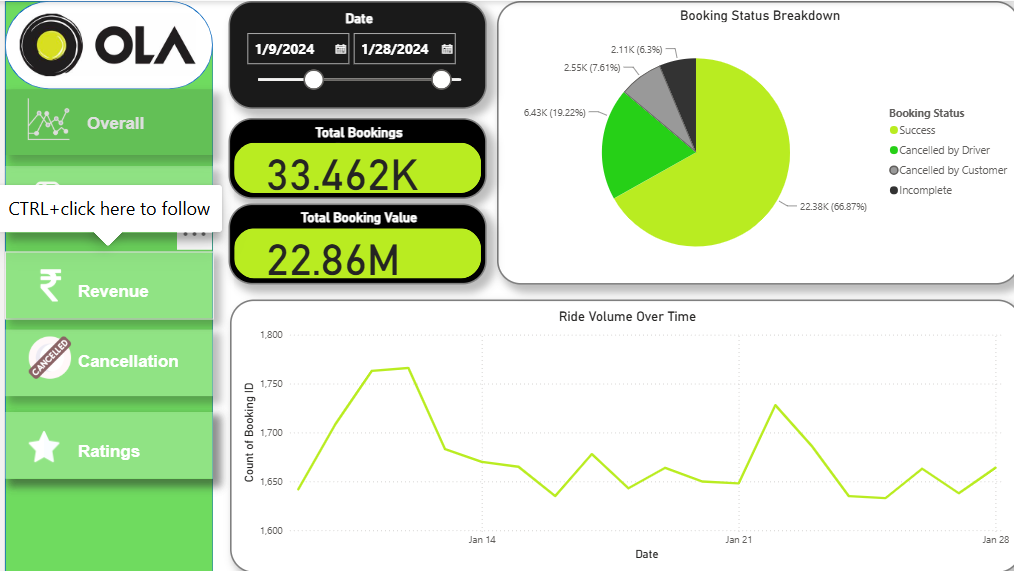

Layout of this report page (visuals, bound fields, positions):
{"tool":"powerbi","page":{"name":"Overall","canvas":[1280,720],"ordinal":0},"visuals":[{"type":"shape","box":[0,0,262.3,720.6],"z":0},{"type":"shape","box":[0,0,261.9,111.1],"z":1000},{"type":"image","box":[12.7,0,231.7,111.1],"z":2000},{"type":"image","box":[11.3,116.6,87.4,63.1],"z":3000},{"type":"textbox","box":[98.8,136,93.9,42.1],"z":4000},{"type":"textbox","box":[102,229.9,160.3,37.2],"z":5000},{"type":"textbox","box":[87.3,347.6,174.6,36.5],"z":6000},{"type":"textbox","box":[87.3,436.5,146,39.7],"z":7000},{"type":"textbox","box":[87.3,549.2,174.6,41.3],"z":8000},{"type":"image","box":[14.6,207.3,87.4,84.2],"z":9000},{"type":"image","box":[0,333.3,115.9,50.8],"z":10000},{"type":"image","box":[23.8,412.7,63.5,74.6],"z":11000},{"type":"image","box":[23.8,530.2,49.2,60.3],"z":12000},{"type":"actionButton","box":[0,315.9,261.9,84.1],"z":13000},{"type":"actionButton","box":[0,518.2,262.3,84.2],"z":14000},{"type":"lineChart","title":"Ride Volume Over Time","fields":{"Y":["CountNonNull(indore ola dataset(1).Booking ID)"],"Category":["indore ola dataset(1).Date"]},"box":[283.4,375.7,997.4,344.9],"z":15000},{"type":"pieChart","title":"Booking Status Breakdown","fields":{"Category":["indore ola dataset(1).Booking Status"],"Y":["CountNonNull(indore ola dataset(1).Booking Status)"]},"box":[620.6,0,658.7,357.1],"z":16000},{"type":"slicer","title":"Date","fields":{"Values":["indore ola dataset(1).Date"]},"box":[281.7,0,325.5,136],"z":17000},{"type":"actionButton","box":[0,518.2,262.3,84.2],"z":18000},{"type":"actionButton","box":[0,414.5,262.3,84.2],"z":19000},{"type":"actionButton","box":[0,207.3,262.3,84.2],"z":20000},{"type":"actionButton","box":[0,111.7,262.3,82.6],"z":21000},{"type":"cardVisual","title":"Total Bookings","fields":{"Data":["CountNonNull(indore ola dataset(1).Booking ID)"]},"box":[281.6,147.4,325,102],"z":22000},{"type":"cardVisual","title":"Total Booking Value","fields":{"Data":["Sum(indore ola dataset(1).Booking Value)"]},"box":[281.6,255.1,325,102],"z":23000}]}

Visuals, with their boxes in screenshot pixels (x1, y1, x2, y2), scaled from the page's 1280x720 canvas onto the 1014x571 screenshot:
shape: bbox=[0, 0, 208, 570]
shape: bbox=[0, 0, 207, 88]
image: bbox=[10, 0, 194, 88]
image: bbox=[9, 92, 78, 143]
textbox: bbox=[78, 108, 153, 141]
textbox: bbox=[81, 182, 208, 212]
textbox: bbox=[69, 276, 207, 305]
textbox: bbox=[69, 346, 185, 378]
textbox: bbox=[69, 436, 207, 468]
image: bbox=[12, 164, 81, 231]
image: bbox=[0, 264, 92, 305]
image: bbox=[19, 327, 69, 386]
image: bbox=[19, 420, 58, 468]
actionButton: bbox=[0, 251, 207, 317]
actionButton: bbox=[0, 411, 208, 478]
"Ride Volume Over Time" lineChart: bbox=[225, 298, 1013, 570]
"Booking Status Breakdown" pieChart: bbox=[492, 0, 1013, 283]
"Date" slicer: bbox=[223, 0, 481, 108]
actionButton: bbox=[0, 411, 208, 478]
actionButton: bbox=[0, 329, 208, 395]
actionButton: bbox=[0, 164, 208, 231]
actionButton: bbox=[0, 89, 208, 154]
"Total Bookings" cardVisual: bbox=[223, 117, 481, 198]
"Total Booking Value" cardVisual: bbox=[223, 202, 481, 283]
